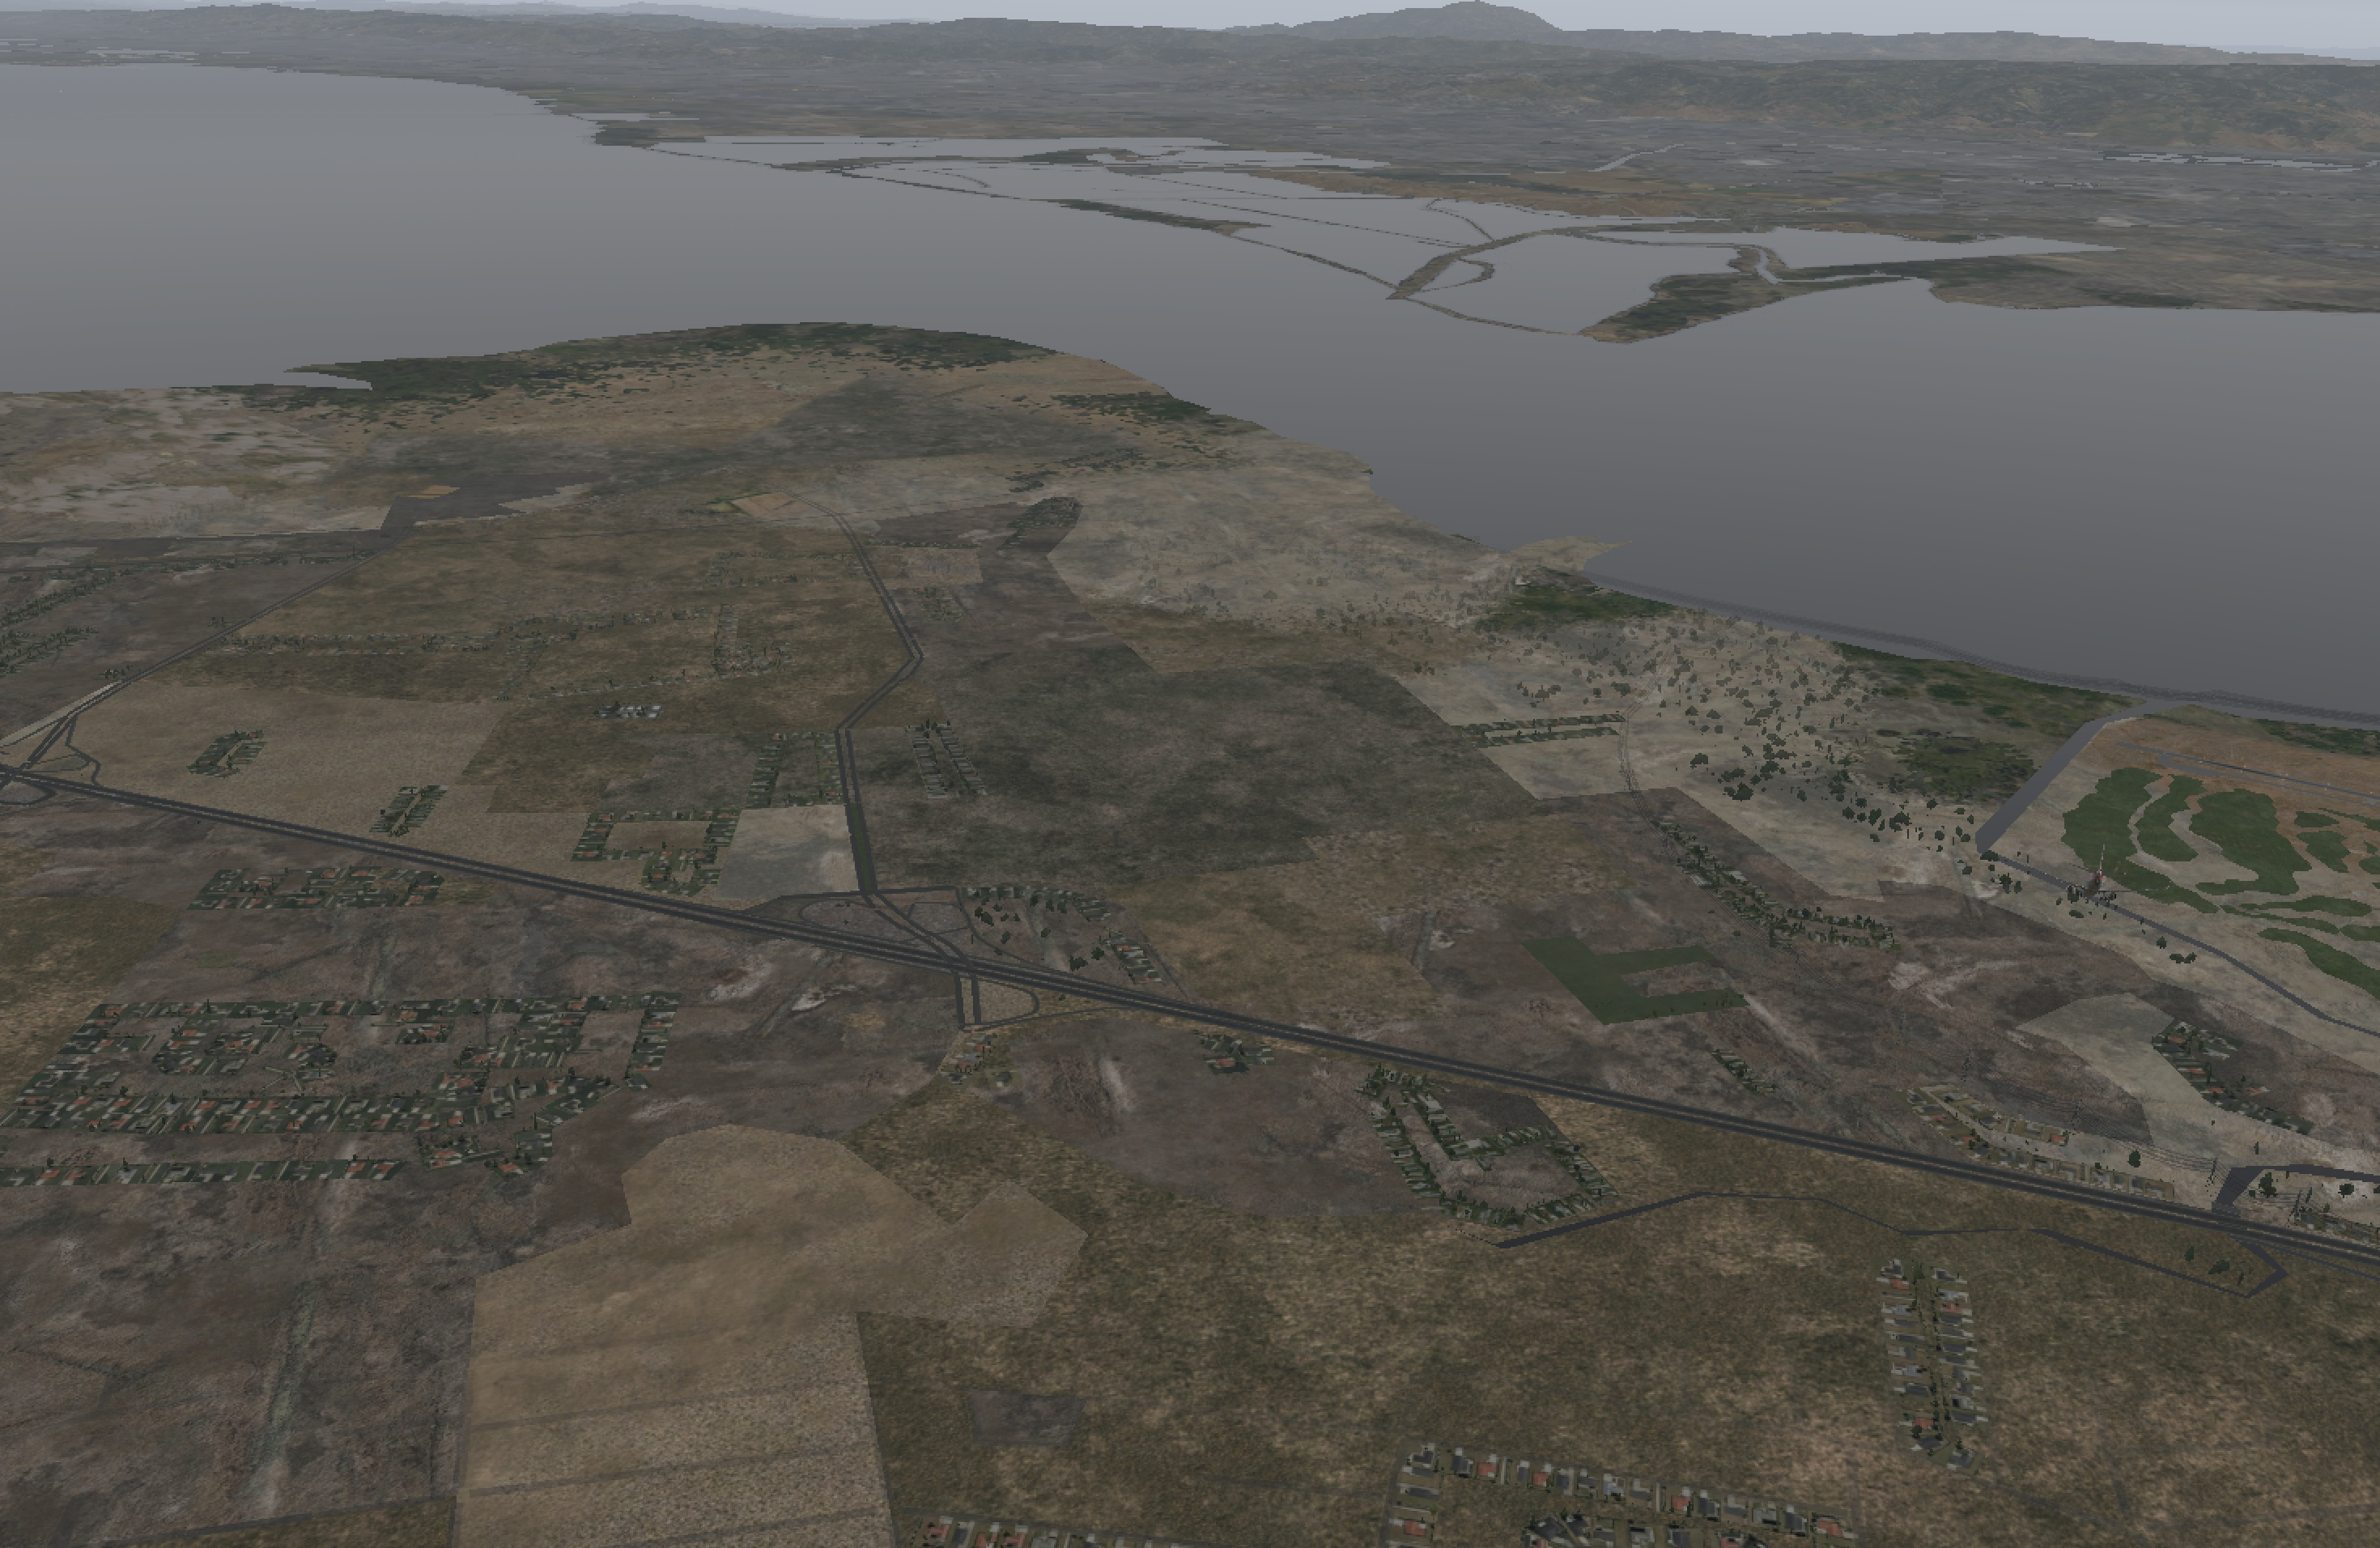aircraft: (2023, 863, 2161, 915)
